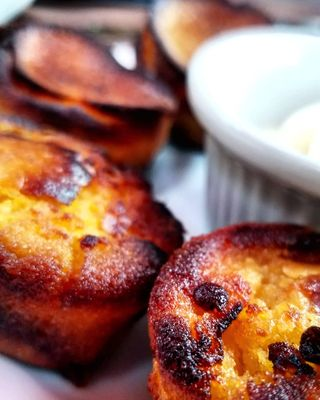sushi: (183, 19, 320, 203)
